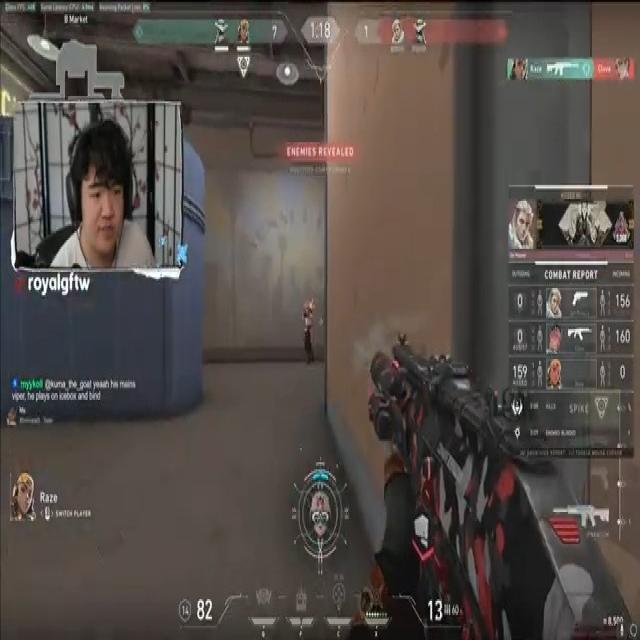enemy: (302, 300, 314, 363)
